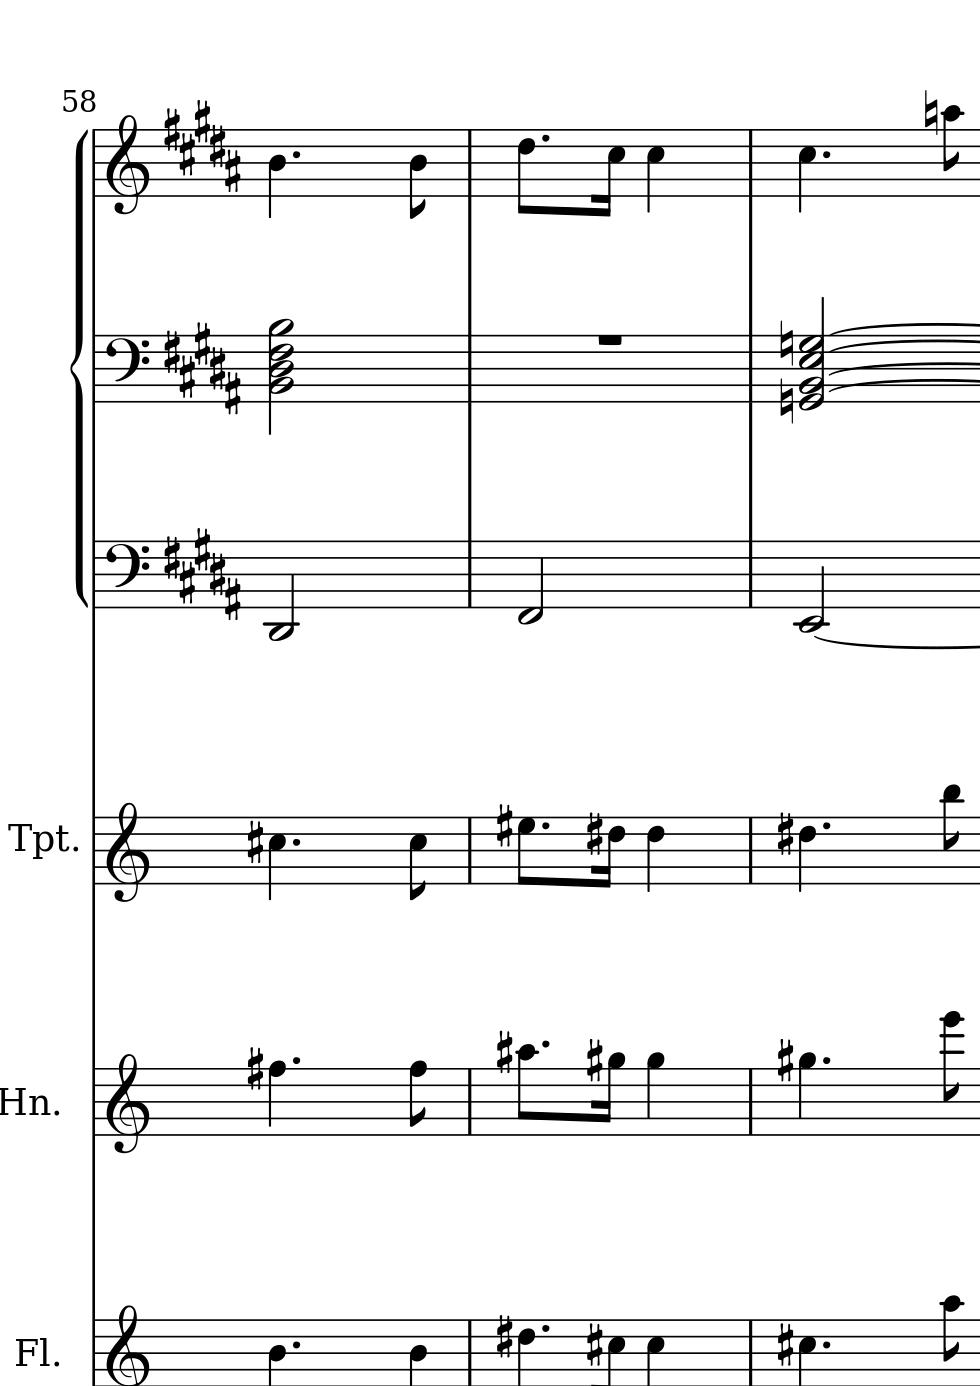16_5: (592, 128, 626, 220)
16_6: (596, 815, 626, 891)
16_9: (594, 1051, 626, 1138)
2_-1: (517, 538, 544, 627)
2_-2: (797, 538, 827, 635)
2_-3: (266, 538, 298, 643)
2_4th: (266, 311, 295, 438), (798, 297, 825, 413)
4_4: (266, 128, 288, 220)
4_5: (265, 814, 286, 902), (797, 126, 817, 215), (645, 127, 665, 215)
4_6: (266, 1058, 287, 1138), (797, 815, 818, 894), (645, 815, 665, 892)
4_9: (643, 1051, 667, 1138), (795, 1050, 817, 1137)
5: (62, 87, 78, 115)
8: (78, 87, 98, 115)
8_10: (940, 104, 964, 199), (940, 1294, 964, 1386), (515, 1043, 538, 1138)
8_11: (940, 783, 964, 887)
8_14: (937, 1007, 967, 1140)
8_4: (407, 128, 427, 222)
8_5: (407, 815, 428, 902)
8_6: (515, 128, 535, 217)
8_7: (515, 815, 536, 887)
8_8: (405, 1060, 428, 1138)
B_S: (161, 321, 244, 414), (162, 99, 242, 192), (163, 525, 243, 617)
Brace: (69, 123, 90, 606)
Fclef: (104, 333, 148, 405), (104, 539, 148, 611)
Fl: (12, 1334, 51, 1371)
Gclef: (104, 1052, 150, 1156), (105, 801, 148, 905), (105, 115, 148, 216)
Hn: (1, 1084, 50, 1118)
Natural: (777, 318, 794, 367), (922, 88, 938, 137), (778, 375, 794, 424)
Rests1: (594, 330, 625, 348)
Sharp: (244, 818, 265, 869), (774, 1321, 794, 1370), (494, 1029, 514, 1076), (583, 1036, 603, 1084), (245, 1046, 264, 1094), (494, 803, 513, 850), (584, 810, 603, 858), (775, 811, 794, 858), (775, 1037, 794, 1084), (584, 1321, 603, 1368), (494, 1314, 513, 1359)
Single_barline: (460, 336, 478, 401), (741, 131, 759, 195), (742, 335, 759, 402), (461, 130, 478, 196), (742, 1321, 759, 1385), (742, 541, 758, 607), (461, 542, 477, 607), (742, 818, 758, 882), (742, 1069, 758, 1134), (461, 1321, 477, 1385), (87, 130, 102, 197), (87, 1069, 102, 1136), (462, 818, 477, 882), (87, 817, 101, 885), (462, 1070, 477, 1134), (88, 336, 102, 403), (88, 542, 102, 608), (87, 1320, 101, 1385)
Tpt: (6, 818, 68, 861)
dot: (288, 147, 303, 162), (538, 131, 552, 147), (819, 148, 833, 163), (288, 835, 302, 849), (288, 1337, 303, 1351), (539, 819, 552, 834), (539, 1038, 552, 1051), (820, 819, 832, 832), (539, 1321, 550, 1335), (820, 1338, 832, 1352), (288, 1055, 301, 1067), (820, 1055, 832, 1067)
